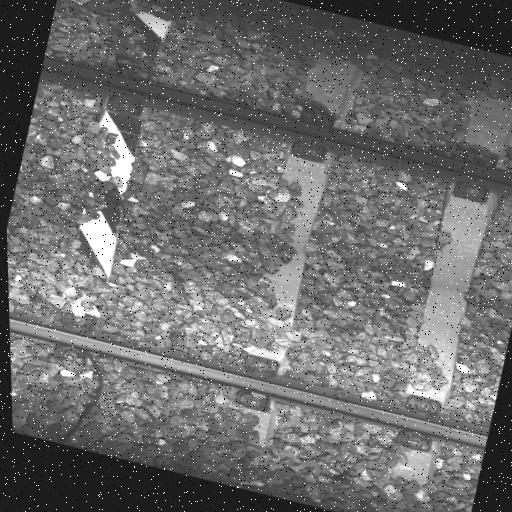sleeper: (13, 4, 188, 414), (202, 50, 376, 460), (364, 89, 512, 499)
